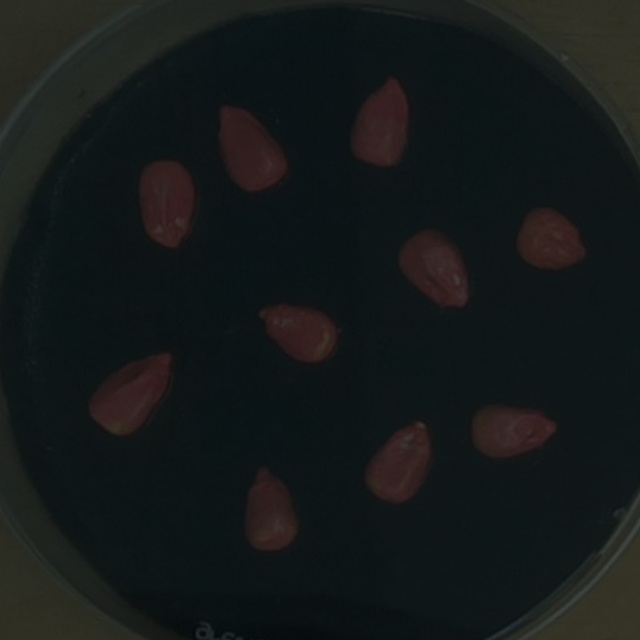Zea mays: (78, 342, 183, 442), (208, 95, 297, 200), (341, 62, 421, 172), (390, 220, 479, 318), (354, 410, 439, 511), (129, 148, 204, 258), (234, 456, 306, 560), (461, 393, 565, 465), (250, 292, 344, 371), (509, 195, 594, 277)
